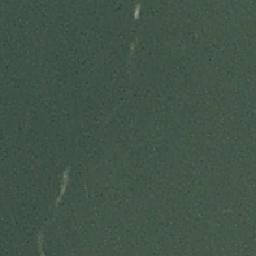debris: (56, 166, 69, 201), (130, 6, 139, 26)
